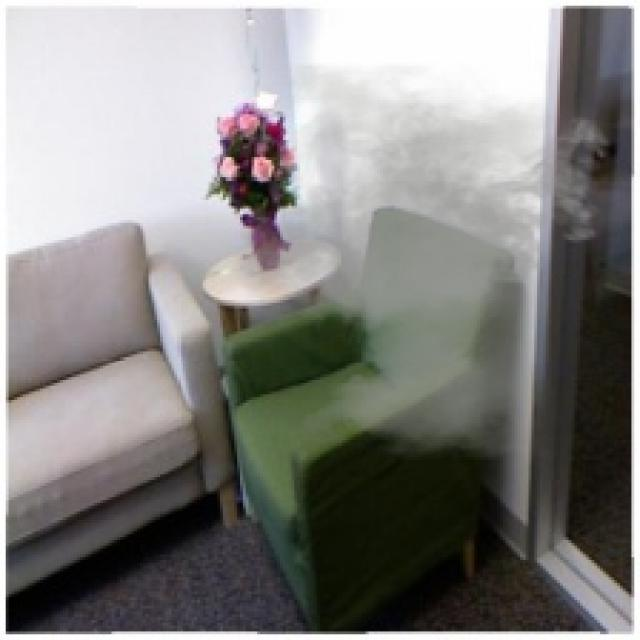Smoke: (217, 63, 623, 460)
